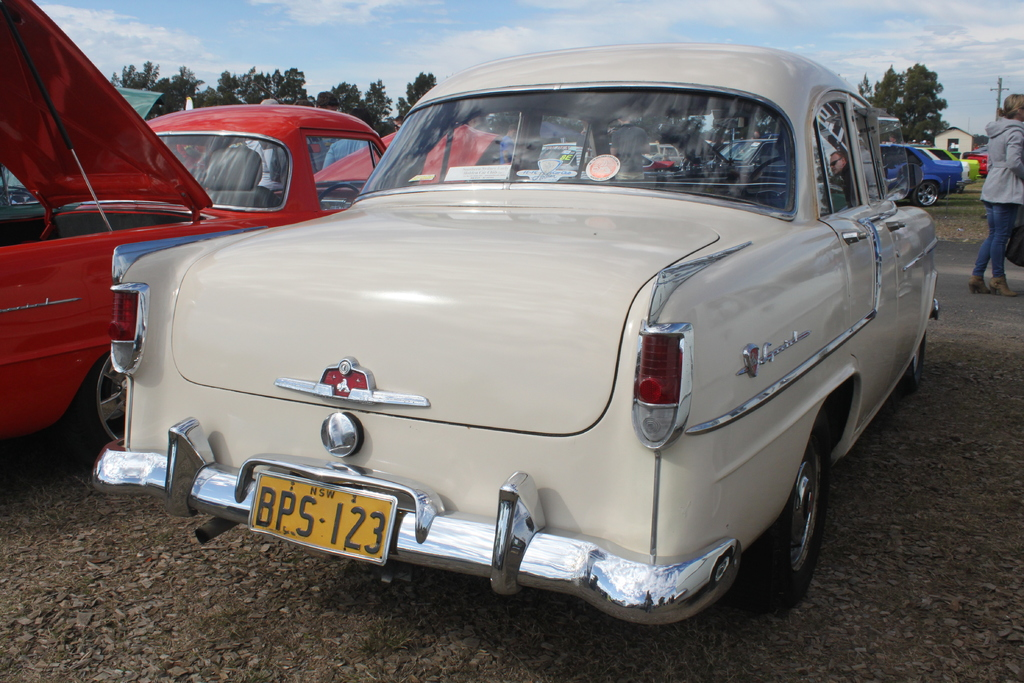Car: (95, 49, 942, 627), (0, 0, 503, 448), (721, 145, 993, 212)
